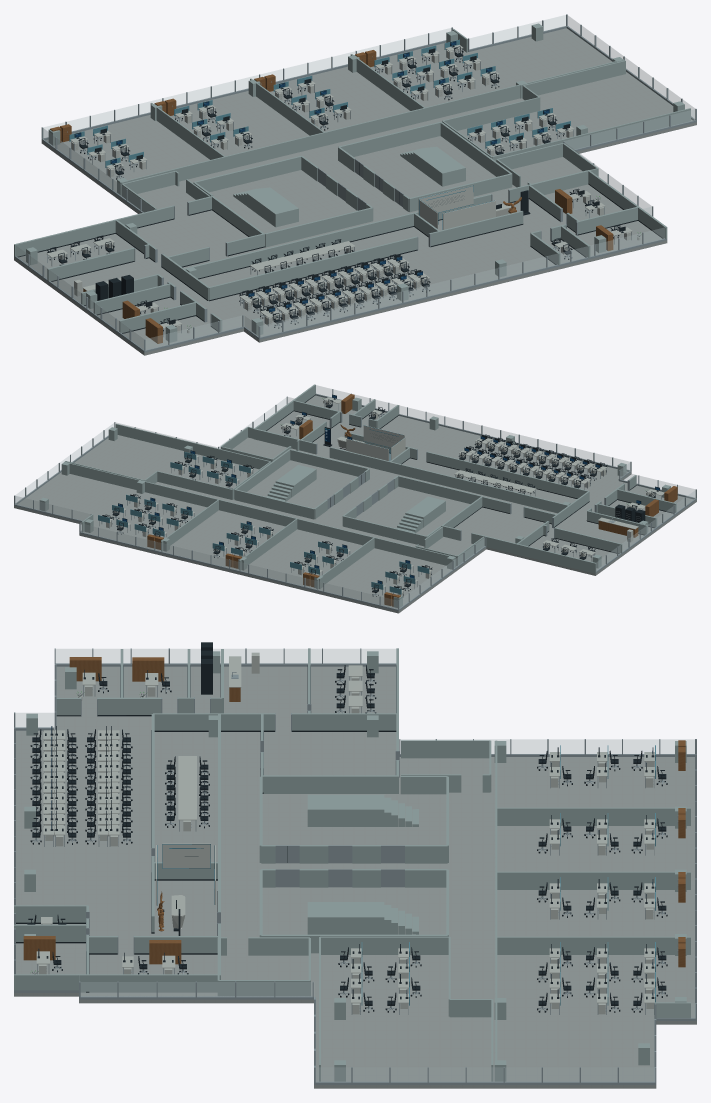
File: f12-stage-lod2.glb
3 renders of one model, top to bottom at view 1: azimuth 30°, elevation 25°; view 2: azimuth 150°, elevation 25°; view 3: azimuth 270°, elevation 25°, orthographic. The views are drawn at different scales.
Parts seen in each view (by area): view 1: V6_F12_FLOOR, V6_F12_WALL, V6_F12_FURNITURE; view 2: V6_F12_FLOOR, V6_F12_WALL, V6_F12_FURNITURE; view 3: V6_F12_FLOOR, V6_F12_WALL, V6_F12_FURNITURE.
Boxes of the visible parts, bbox=[...] form: V6_F12_FLOOR: bbox=[14, 28, 696, 355]; V6_F12_WALL: bbox=[14, 14, 696, 350]; V6_F12_FURNITURE: bbox=[14, 26, 696, 352]; V6_F12_FLOOR: bbox=[14, 395, 696, 613]; V6_F12_WALL: bbox=[14, 384, 696, 609]; V6_F12_FURNITURE: bbox=[14, 393, 696, 611]; V6_F12_FLOOR: bbox=[14, 666, 696, 1088]; V6_F12_WALL: bbox=[14, 648, 696, 1082]; V6_F12_FURNITURE: bbox=[14, 642, 696, 1084].
Bounding box in the file's own units: 55.47 × 2.58 × 38.19.
15 materials, 3 textured.
